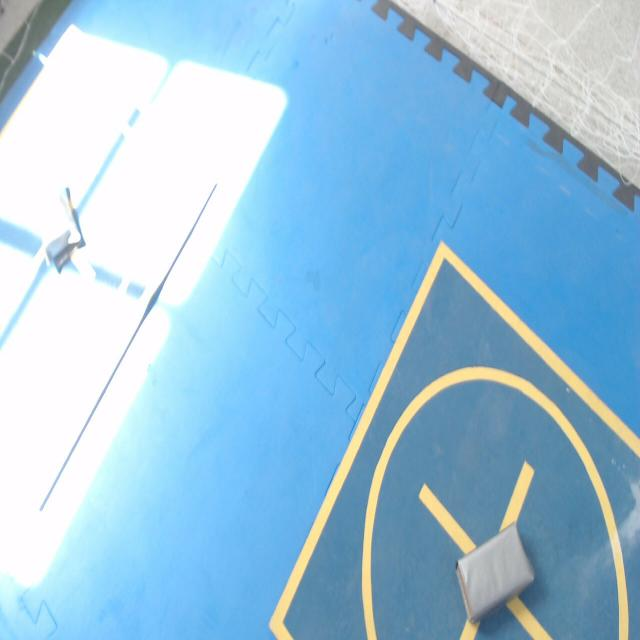direita: (456, 523, 534, 622)
esquerda: (40, 188, 83, 272)
